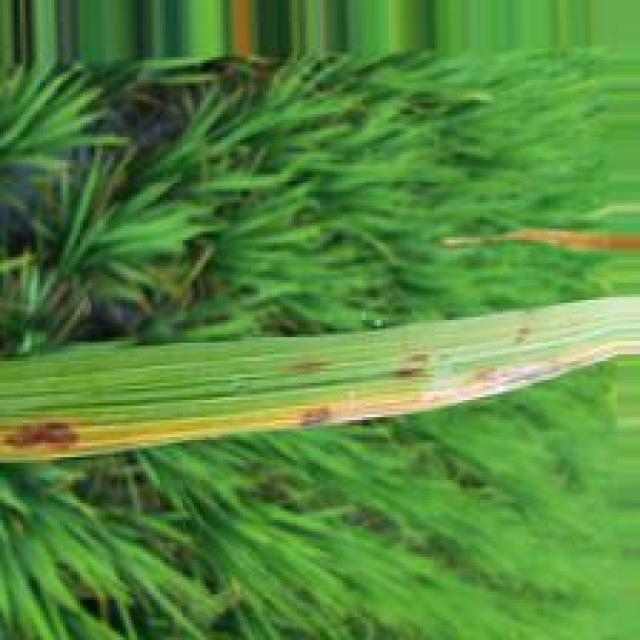Brown_Spot: (468, 359, 598, 392), (7, 417, 87, 456), (393, 351, 443, 379), (298, 401, 339, 430), (285, 356, 337, 375)
